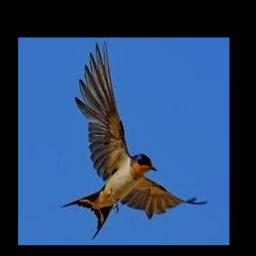Swallow: (59, 41, 206, 241)
